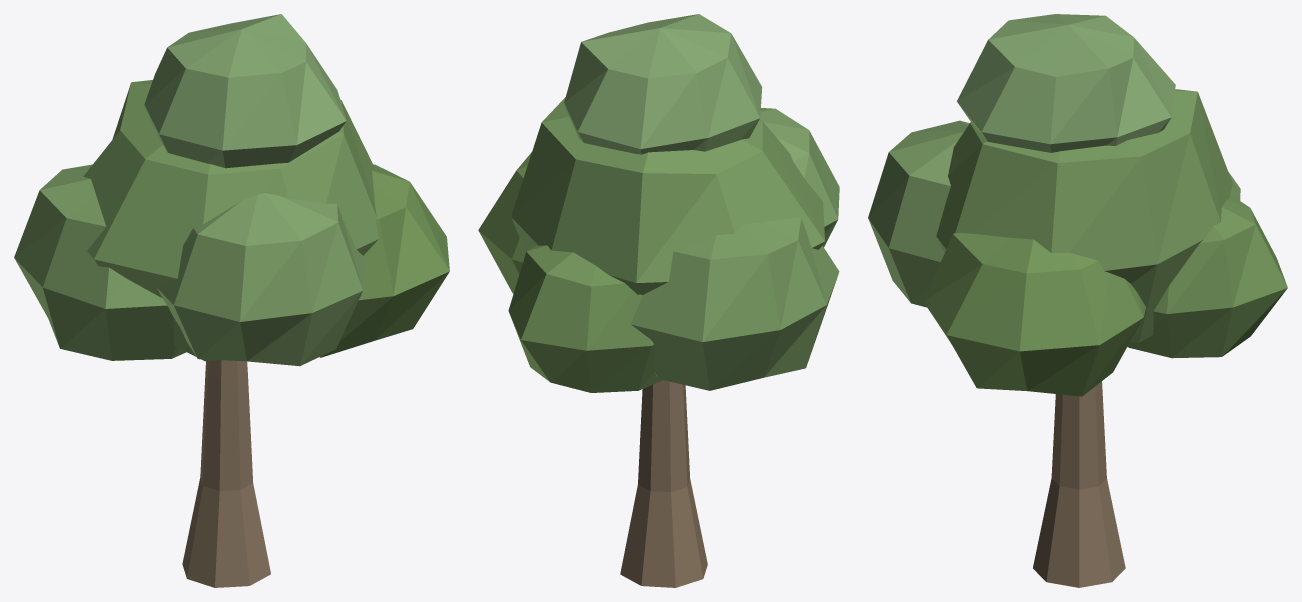
Rendered from oak.glb.
3 renders of one model, left to right at view 1: azimuth 30°, elevation 25°; view 2: azimuth 150°, elevation 25°; view 3: azimuth 270°, elevation 25°, orthographic. The views are drawn at different scales.
Parts seen in each view (by area): view 1: oak; view 2: oak; view 3: oak.
Boxes of the visible parts, x1,y1,x2,y2 form: oak: (14,14,449,587); oak: (478,14,839,587); oak: (868,14,1287,587).
Bounding box in the file's own units: 3.85 × 5.46 × 3.79.
